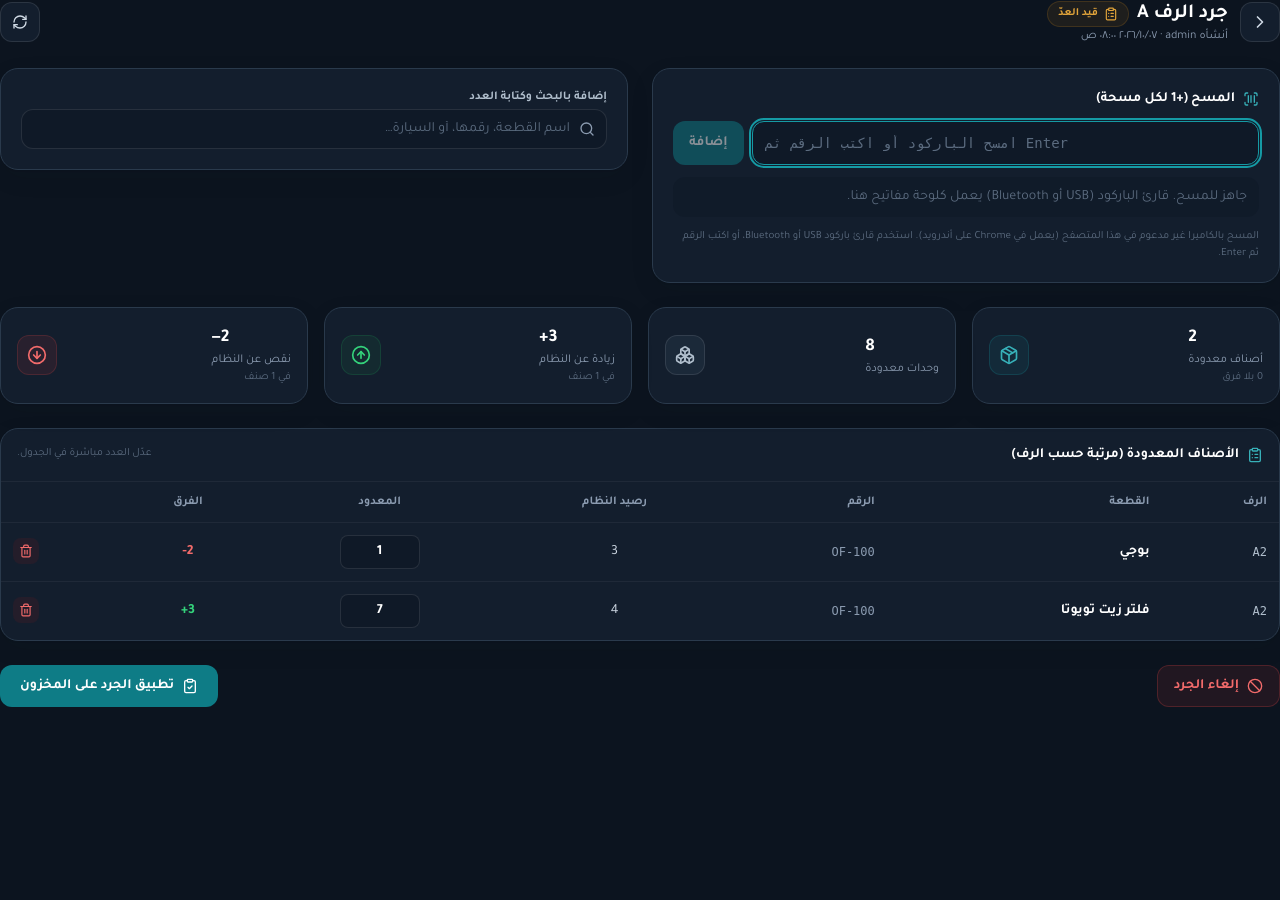
StockCountSheet › مربع التطبيق يلخّص الزيادة والنقص ثم يطبّق
The width and height of the screenshot is (1280, 900).
Click the button "تطبيق الجرد على المخزون".
click(109, 686)  # box [0, 664, 218, 706]
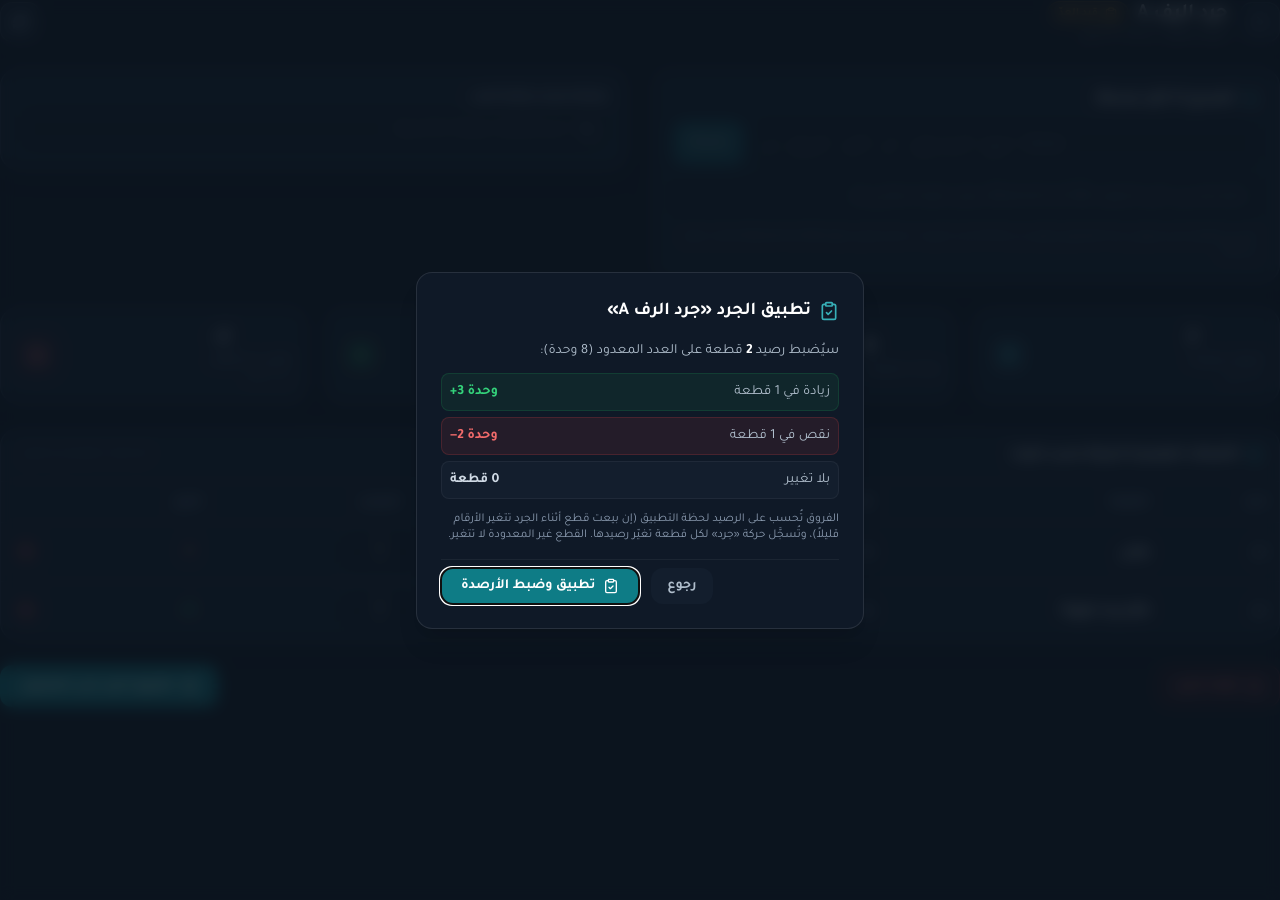
Now the text "+3 وحدة" is shown, box [450, 382, 498, 402]
Now the text "−2 وحدة" is shown, box [450, 426, 498, 446]
Click the button "تطبيق وضبط الأرصدة".
click(540, 586)  # box [441, 568, 639, 604]
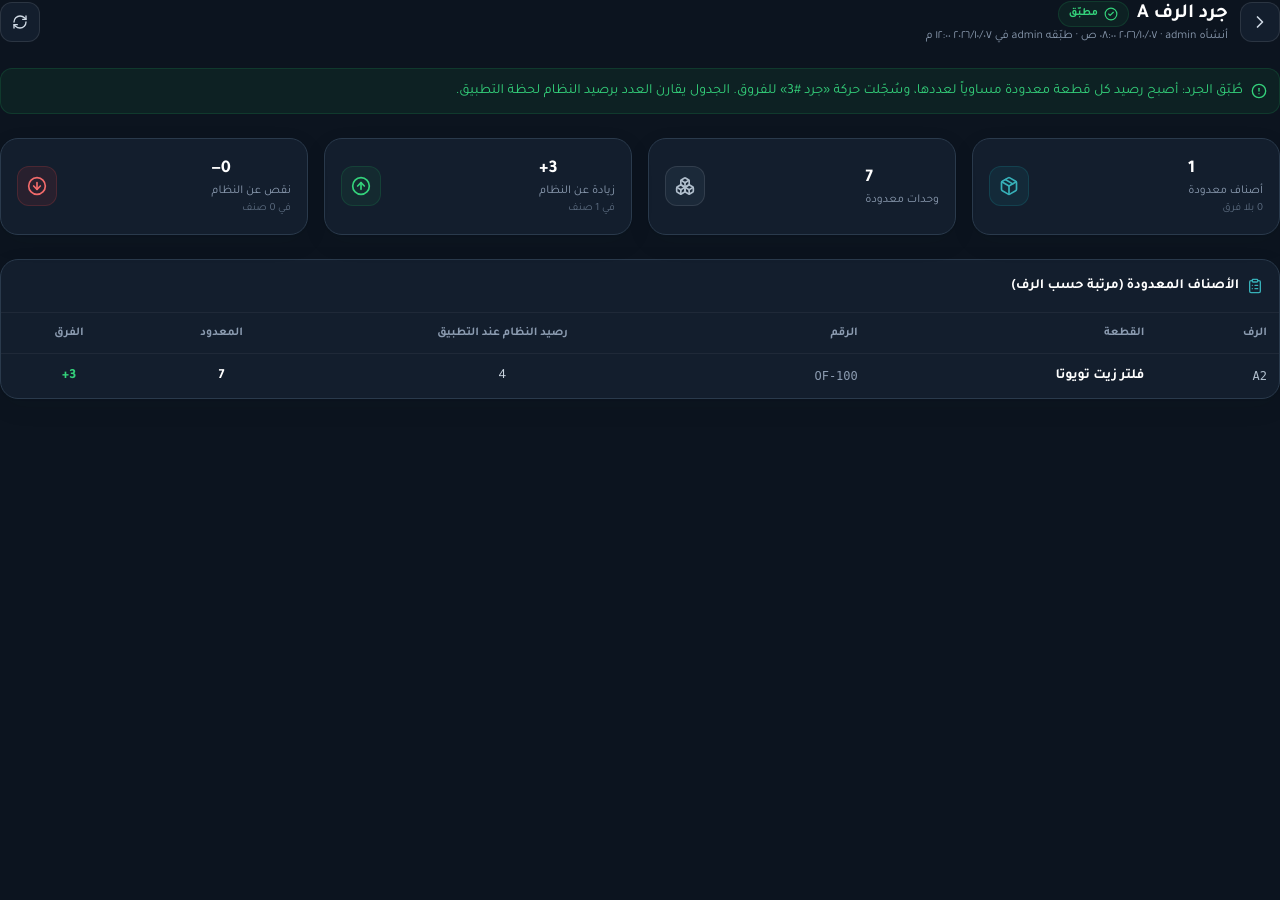
Expected: the field labelled "الباركود أو رقم القطعة" is not shown
Now the dialog is gone
Now the text "مطبّق" is shown, box [1058, 1, 1129, 27]
